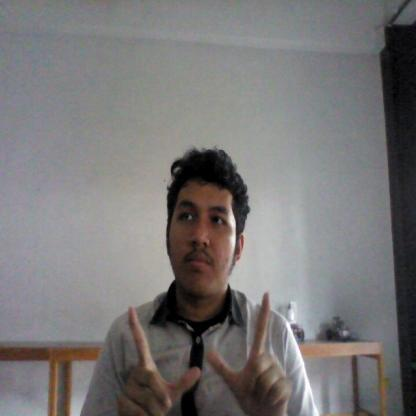W: (117, 290, 294, 416)
